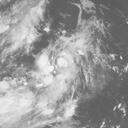cyclone: (40, 36, 91, 89)
